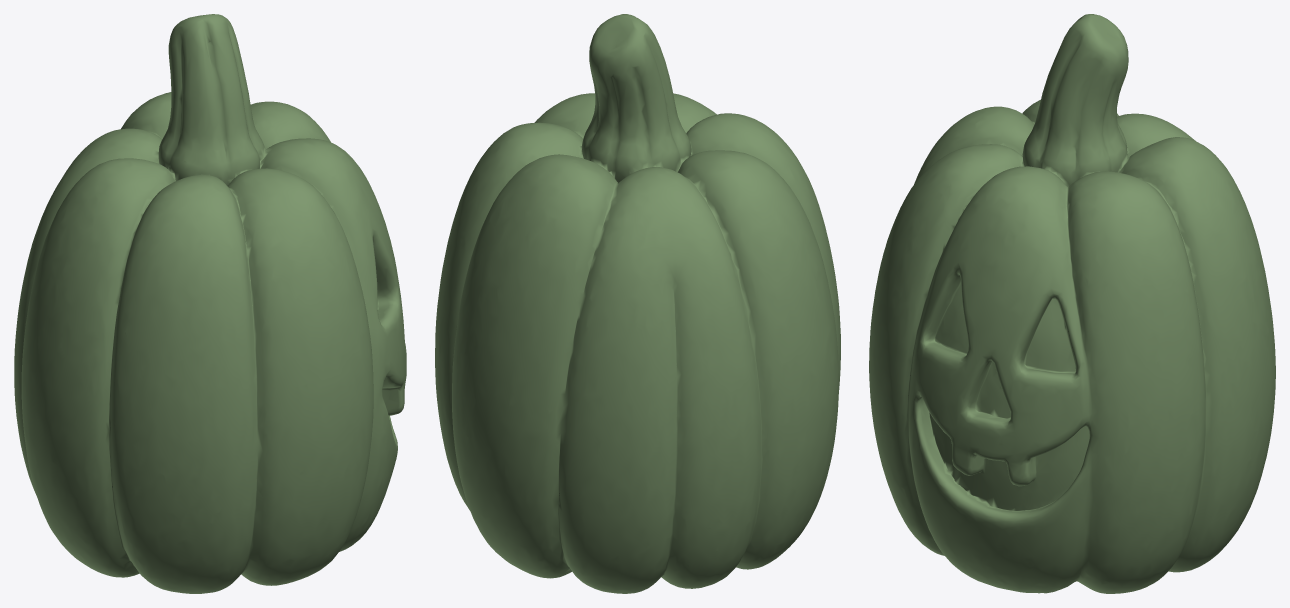
File: jack-o-lantern.glb
3 views of the same model, side by side, from view 1: azimuth 30°, elevation 25°; view 2: azimuth 150°, elevation 25°; view 3: azimuth 270°, elevation 25° (orthographic).
Parts seen in each view (by area): view 1: tripo_printable_source; view 2: tripo_printable_source; view 3: tripo_printable_source.
Boxes of the visible parts, box(x1,y1,x2,y2) form: tripo_printable_source: box(14, 14, 406, 593); tripo_printable_source: box(435, 14, 840, 593); tripo_printable_source: box(869, 14, 1275, 593).
Bounding box in the file's own units: 69.77 × 100 × 70.
